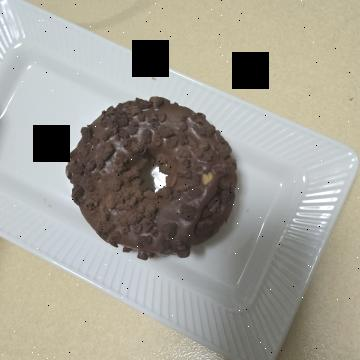doughnut: (86, 108, 272, 298)
